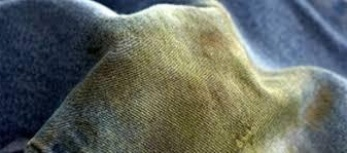earth: (110, 16, 283, 153)
